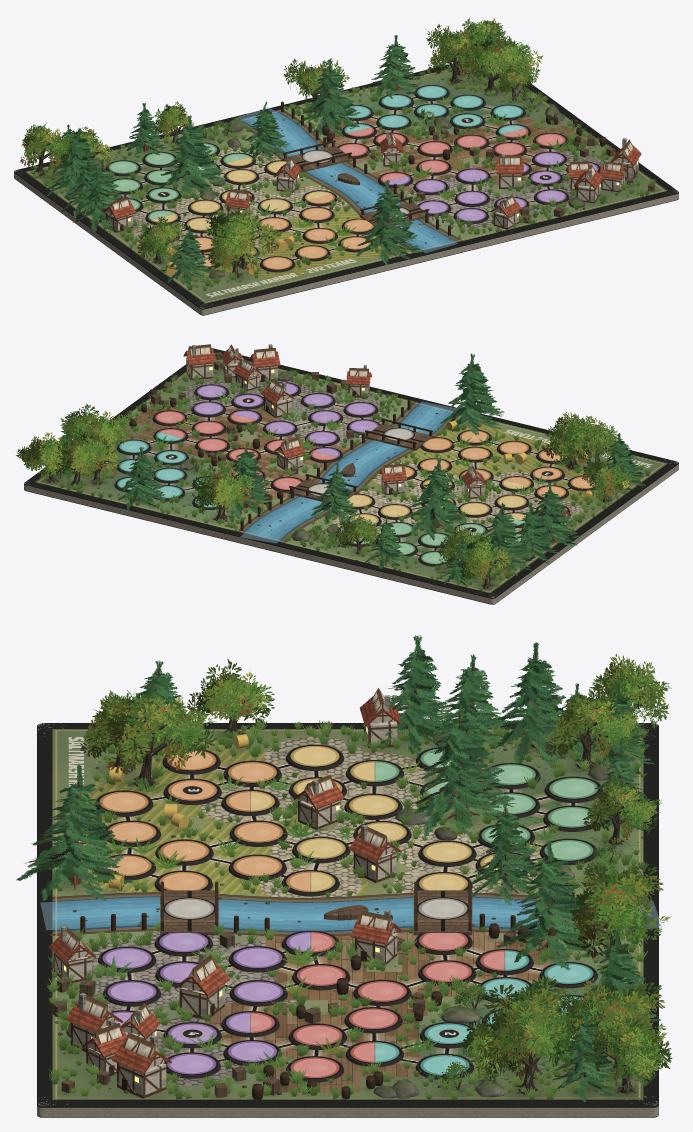
Rendered from harbor.glb.
3 views of the same model, one above another, from view 1: azimuth 30°, elevation 25°; view 2: azimuth 150°, elevation 25°; view 3: azimuth 270°, elevation 25° (orthographic). The views are drawn at different scales.
Visible parts, largest first — view 1: scenery (×20), board (×2); view 2: scenery (×20), board (×2); view 3: scenery (×27), board (×47).
Part boxes in pixels (x1,y1,x2,y2): scenery (×20): (20, 17, 655, 290); board (×2): (14, 64, 678, 315); scenery (×20): (16, 352, 652, 590); board (×2): (24, 348, 678, 604); scenery (×27): (16, 635, 672, 1102); board (×47): (37, 723, 658, 1117).
Size of the model in its own units: 13.07 by 1.98 by 9.09.
32 materials, 25 textured.
